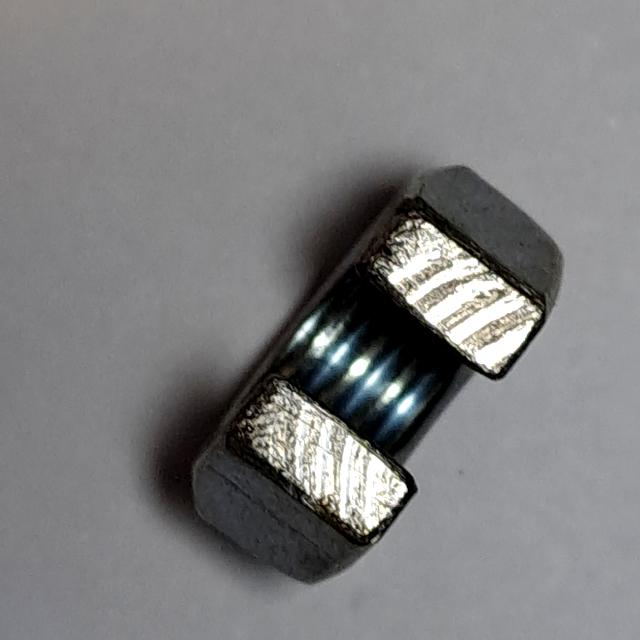Side-Fracture: (179, 154, 578, 601)
